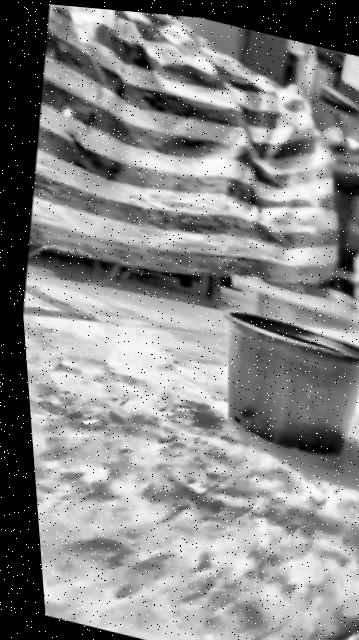pot: (202, 304, 359, 467)
